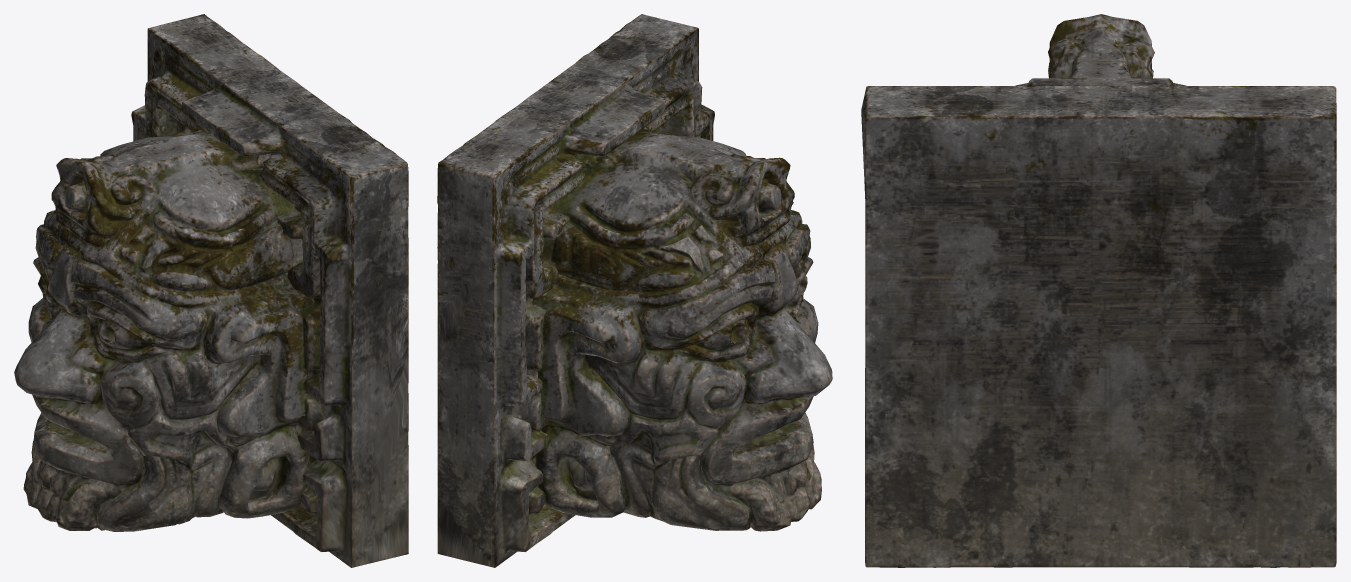
The model's file is SM_Sculpt_B.fbx.
3 views of the same model, side by side, from view 1: azimuth 30°, elevation 25°; view 2: azimuth 150°, elevation 25°; view 3: azimuth 270°, elevation 25° (orthographic). The views are drawn at different scales.
Visible parts, largest first — view 1: SM_Sculpt_B_LOD0; view 2: SM_Sculpt_B_LOD0; view 3: SM_Sculpt_B_LOD0.
Boxes of the visible parts, <box> form: SM_Sculpt_B_LOD0: <box>14,14,408,567</box>; SM_Sculpt_B_LOD0: <box>437,14,832,567</box>; SM_Sculpt_B_LOD0: <box>861,14,1336,567</box>.
Bounding box in the file's own units: 344 × 425 × 446.
